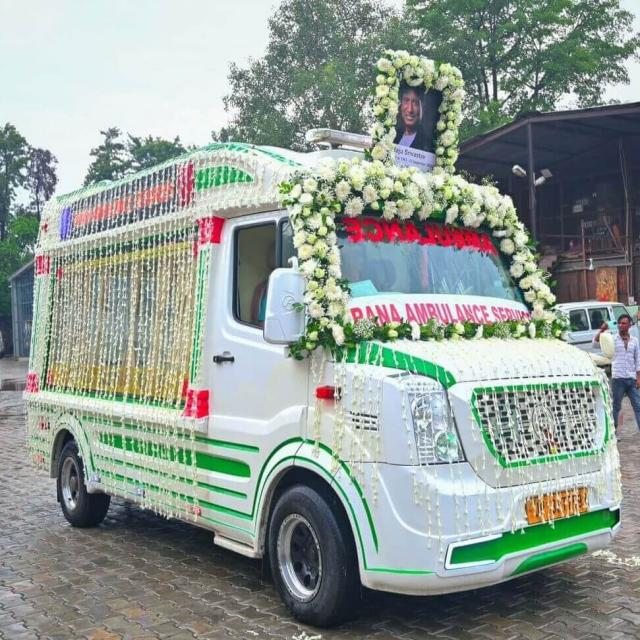emergency: (25, 51, 620, 624)
